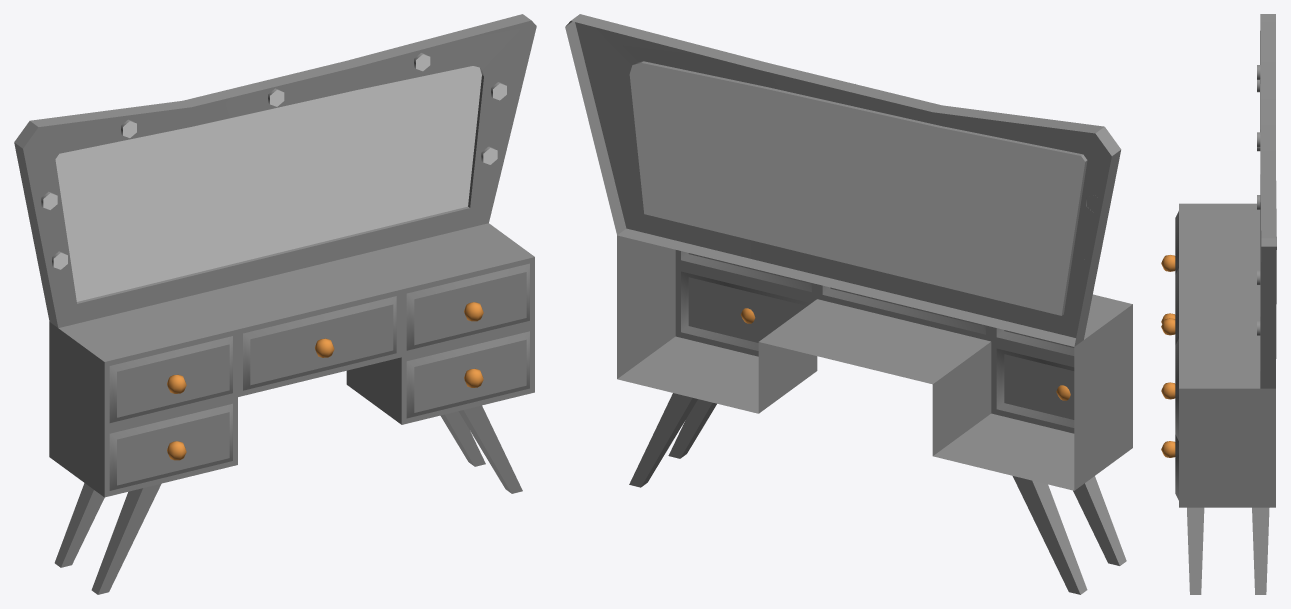
Rendered from Desk.fbx.
3 renders of one model, left to right at view 1: azimuth 30°, elevation 25°; view 2: azimuth 150°, elevation 25°; view 3: azimuth 270°, elevation 25°, orthographic. The views are drawn at different scales.
Visible parts, largest first — view 1: Cube.042; view 2: Cube.042; view 3: Cube.042.
Part boxes in pixels (box(x1,y1,x2,y2)): Cube.042: box(14, 14, 536, 594); Cube.042: box(565, 14, 1132, 594); Cube.042: box(1161, 14, 1276, 594).
Size of the model in its own units: 709 by 584 by 157.
